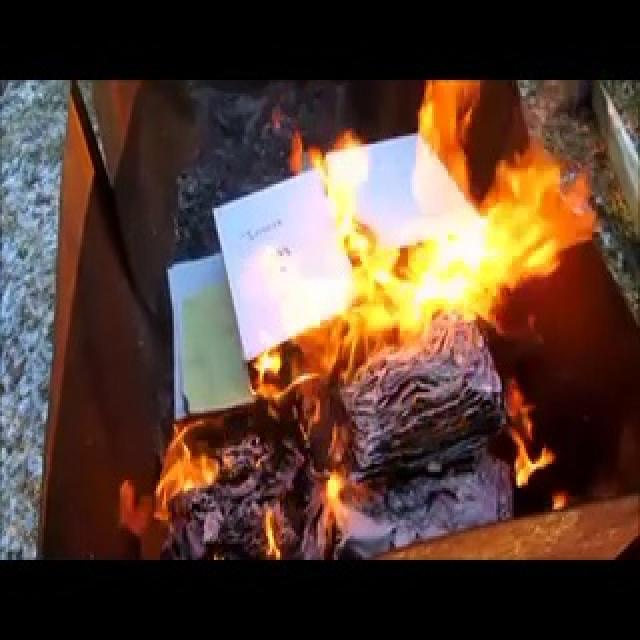fire: (271, 77, 605, 440), (156, 408, 272, 550)
